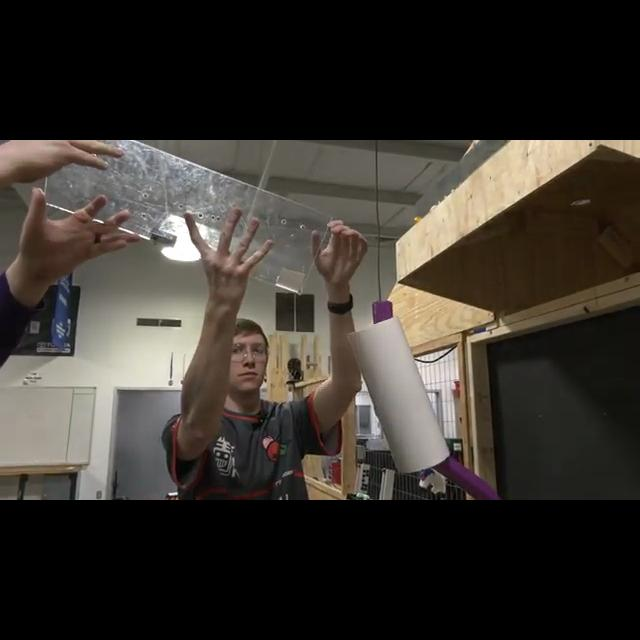CORAL: (348, 316, 450, 474)
